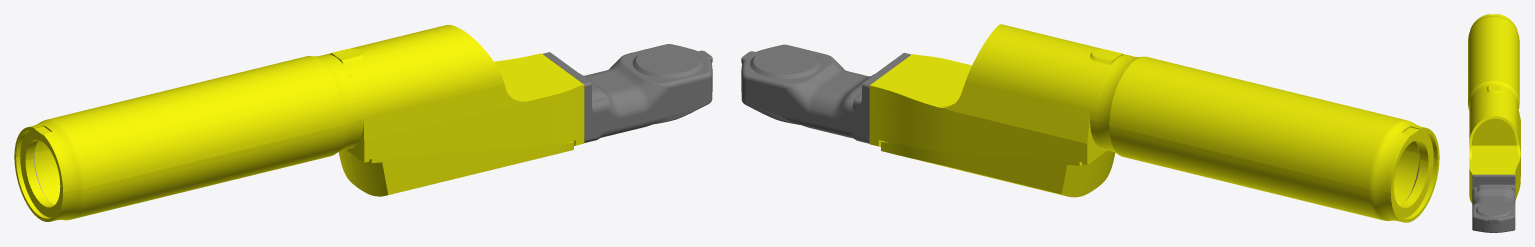
The picture shows the model from 3 angles, left to right: view 1: azimuth 30°, elevation 25°; view 2: azimuth 150°, elevation 25°; view 3: azimuth 270°, elevation 25°; orthographic projection. The views are drawn at different scales.
Visible parts, largest first — view 1: Mesh_0-mesh, Mesh_0-mesh_1; view 2: Mesh_0-mesh, Mesh_0-mesh_1; view 3: Mesh_0-mesh, Mesh_0-mesh_1.
Part boxes in pixels (x1=…): Mesh_0-mesh: x1=14, y1=25, x2=584, y2=221; Mesh_0-mesh_1: x1=543, y1=44, x2=712, y2=142; Mesh_0-mesh: x1=869, y1=24, x2=1439, y2=222; Mesh_0-mesh_1: x1=741, y1=44, x2=911, y2=143; Mesh_0-mesh: x1=1468, y1=14, x2=1520, y2=202; Mesh_0-mesh_1: x1=1472, y1=174, x2=1515, y2=232.
Bounding box in the file's own units: 0.8973 × 0.1758 × 0.1227.
